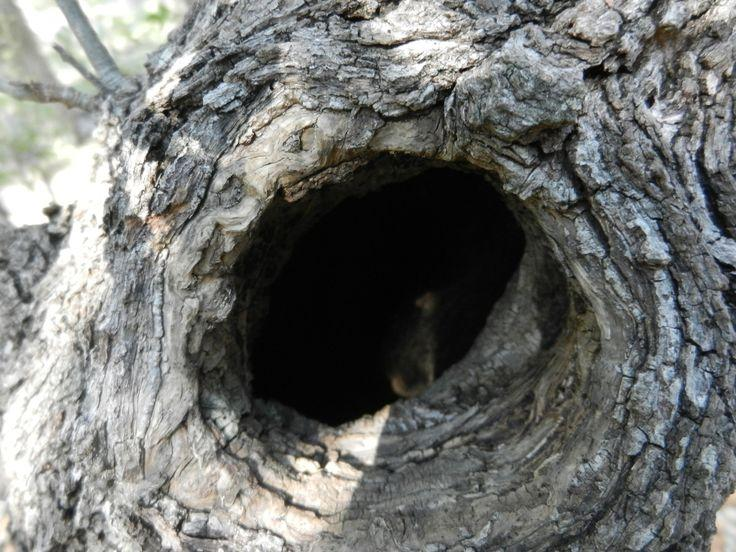hollow: (248, 169, 523, 424)
